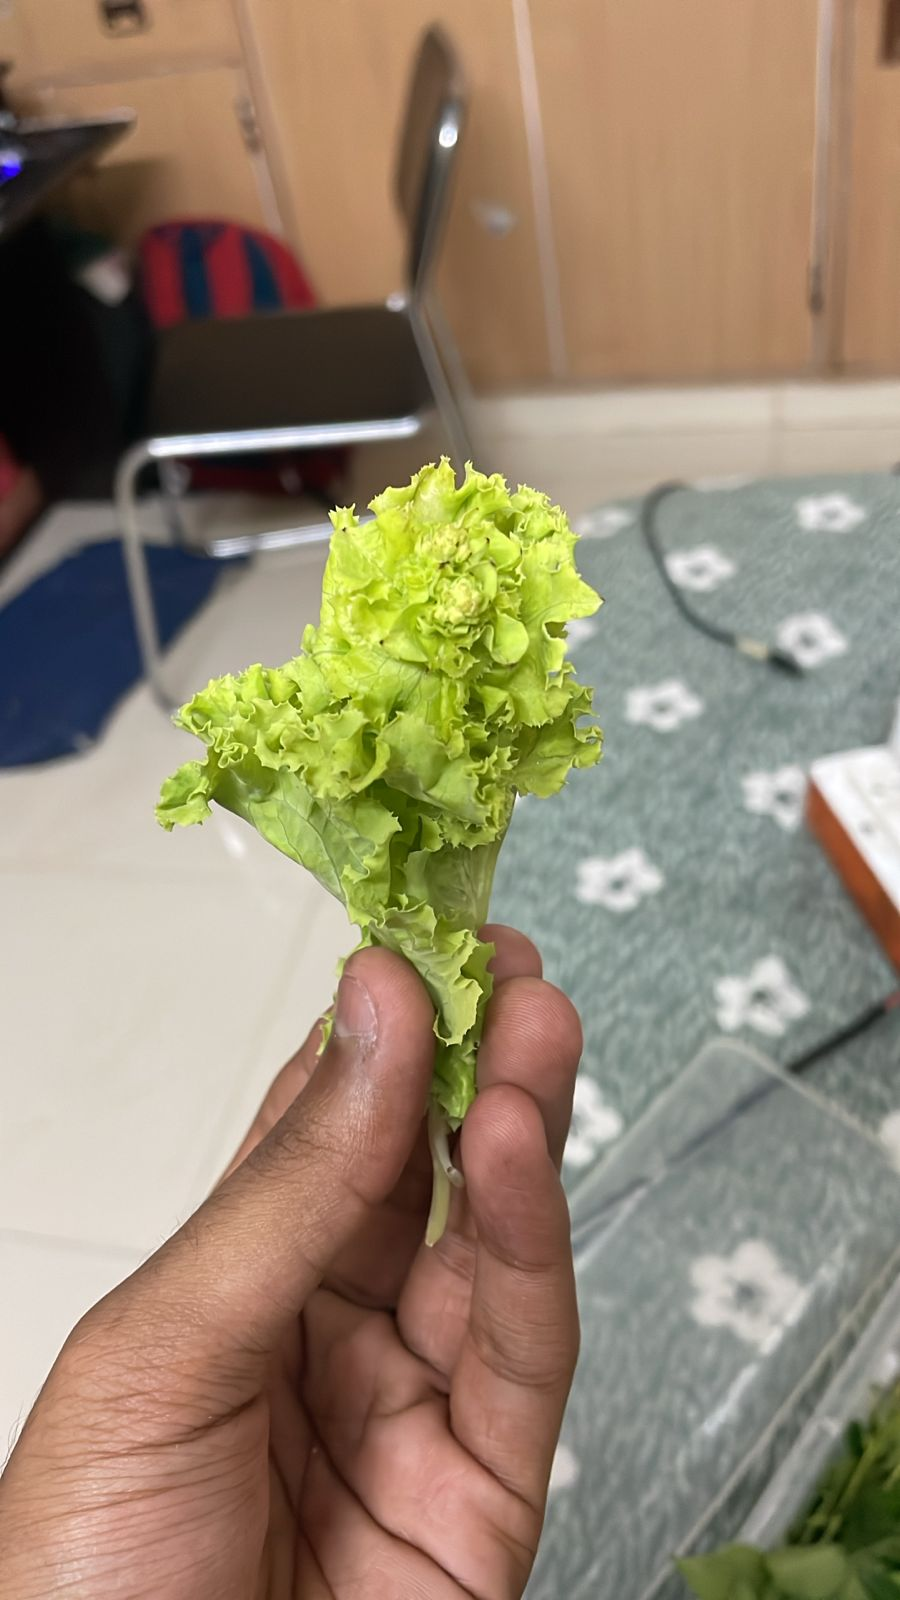wet: (188, 444, 560, 914)
